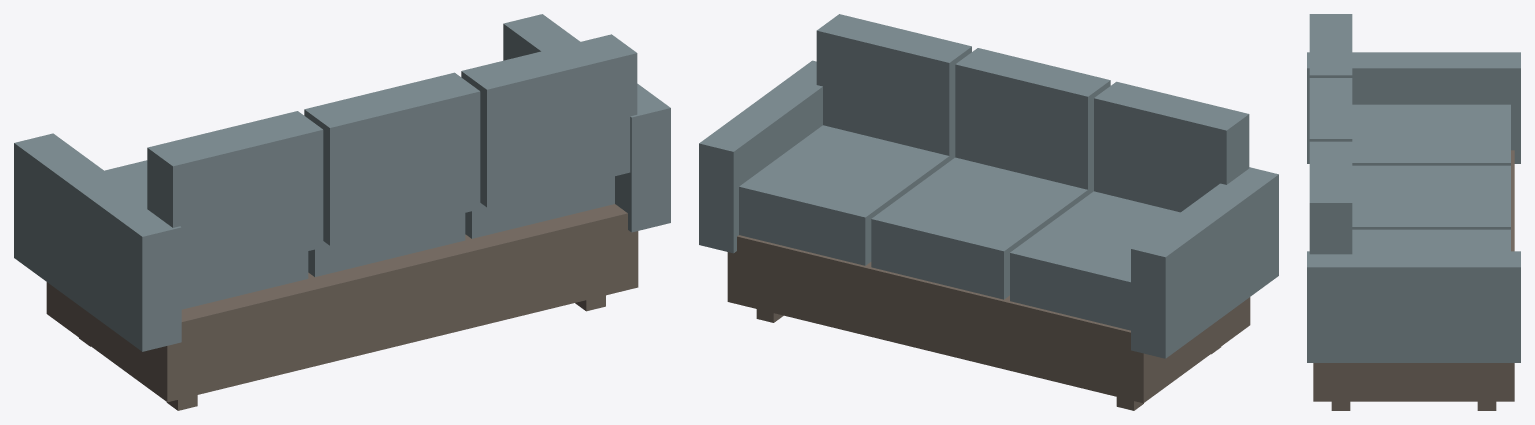
File: sofa_apartment.glb
3 renders of one model, left to right at view 1: azimuth 30°, elevation 25°; view 2: azimuth 150°, elevation 25°; view 3: azimuth 270°, elevation 25°, orthographic. The views are drawn at different scales.
Visible parts, largest first — view 1: body; view 2: body; view 3: body.
Part boxes in pixels (bbox=[...]): body: bbox=[14, 14, 670, 410]; body: bbox=[699, 14, 1278, 410]; body: bbox=[1307, 14, 1520, 410].
Bounding box in the file's own units: 2.02 × 0.945 × 0.85.
